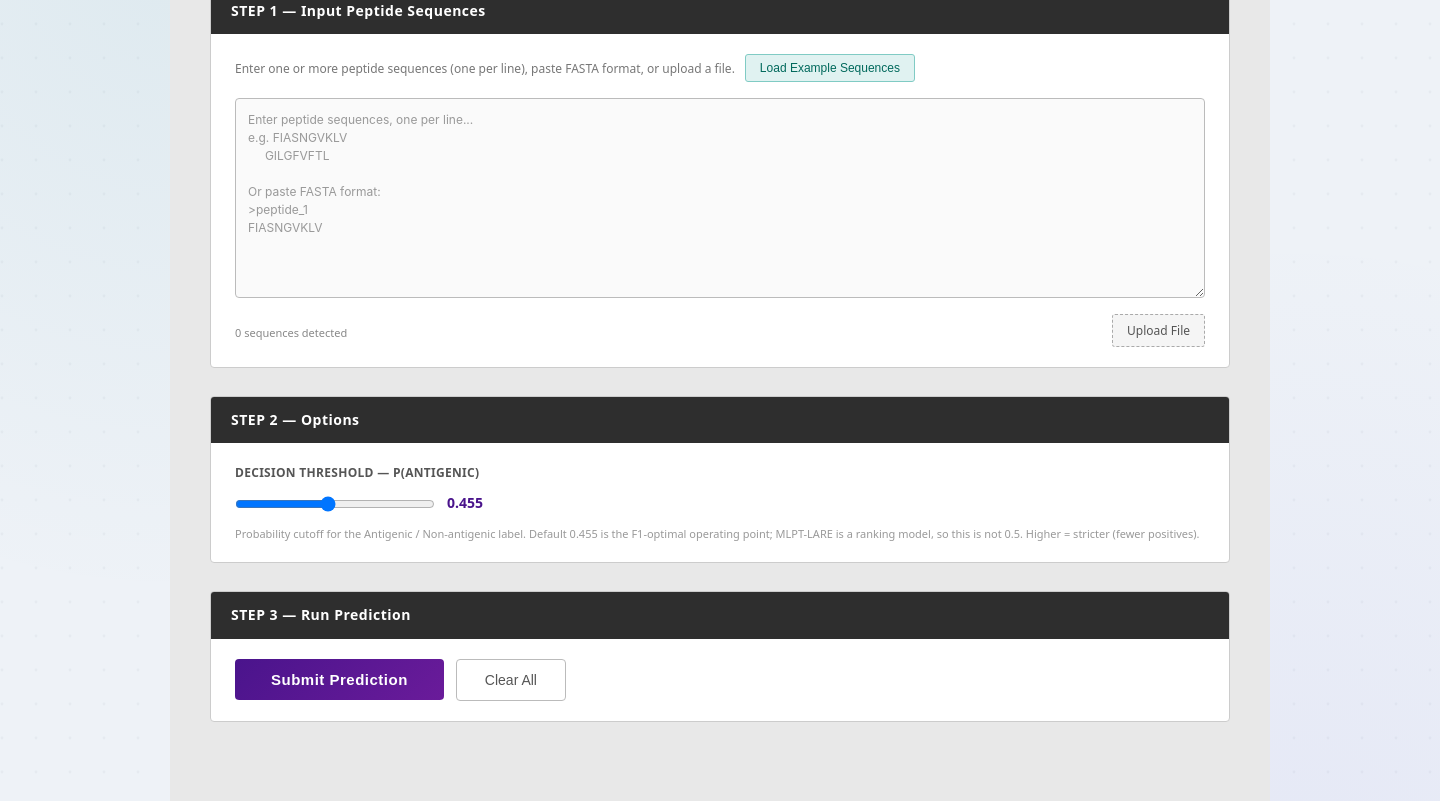
Test: AntigenicPeptidePage › shows an error when submitting with empty input
(page scrolled)
Click the button "Submit Prediction" at (339, 679), box [235,658,444,700]
(page scrolled)
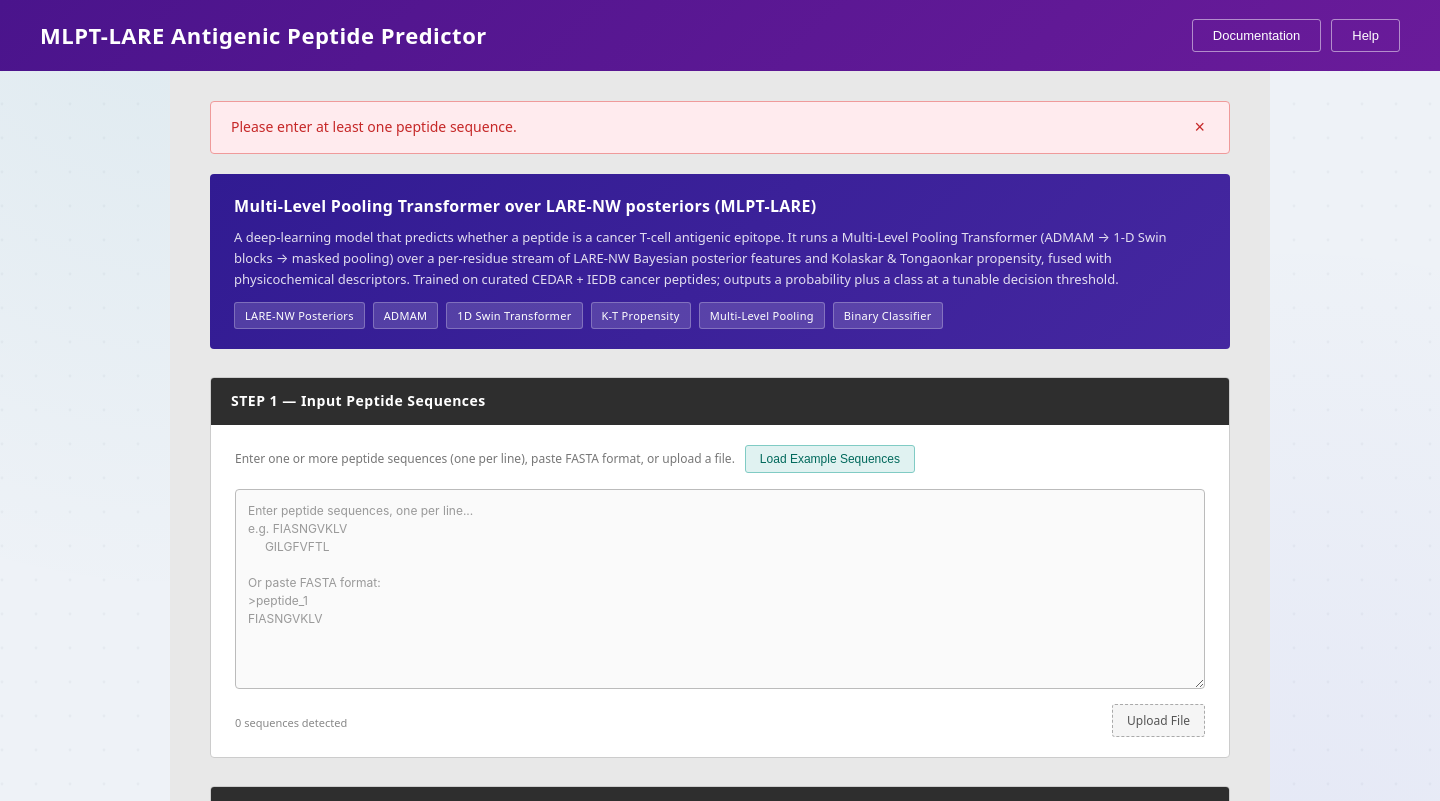
Now the text "Please enter at least one peptide sequence." is shown, box [231,116,517,139]
